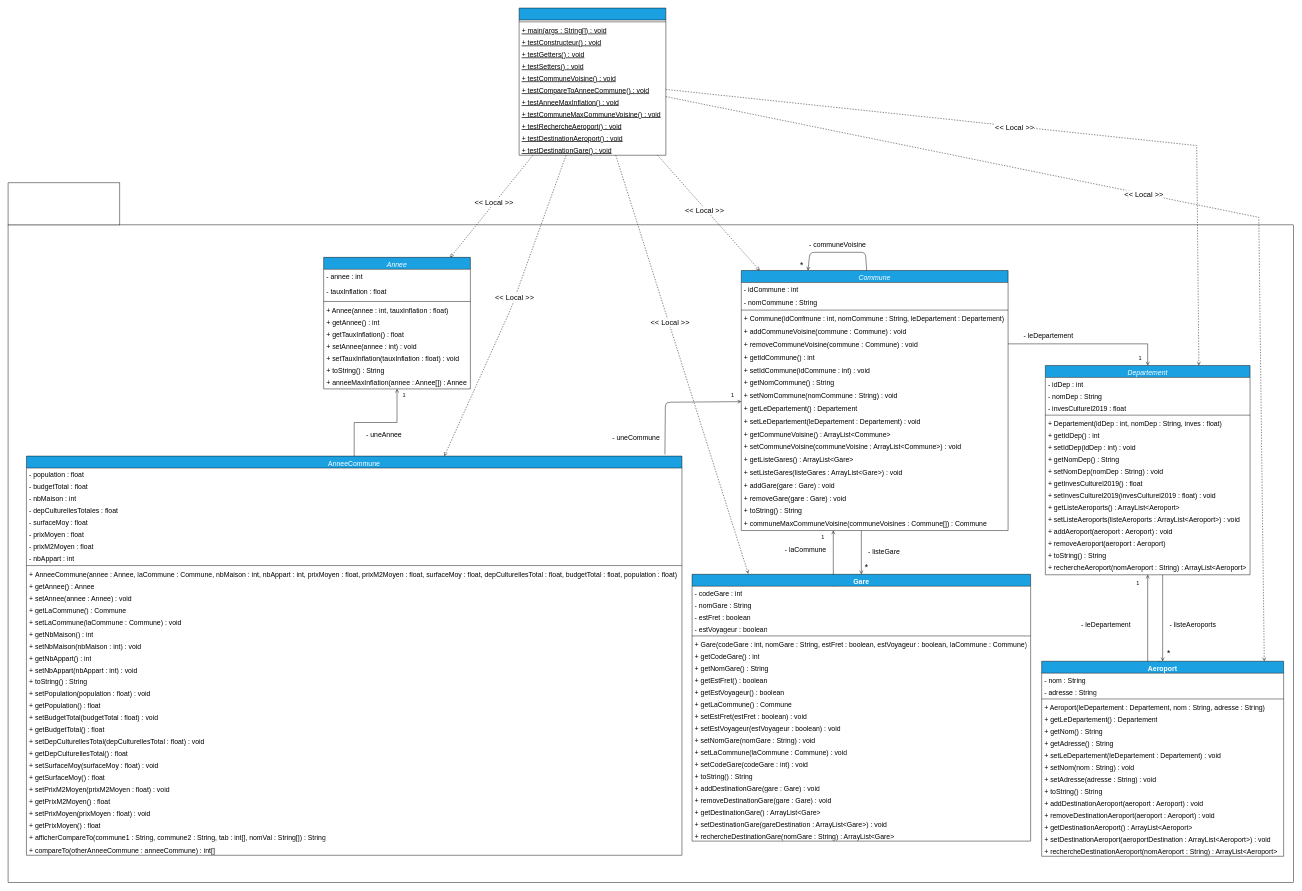
Image size: 1302x891. Some labels were removed from this diagram. The box of each missing label's shape, as (x1, y1, x2, y2) in pixels:
model: (8, 182, 120, 225)
ModelScenario: (519, 8, 666, 155)
